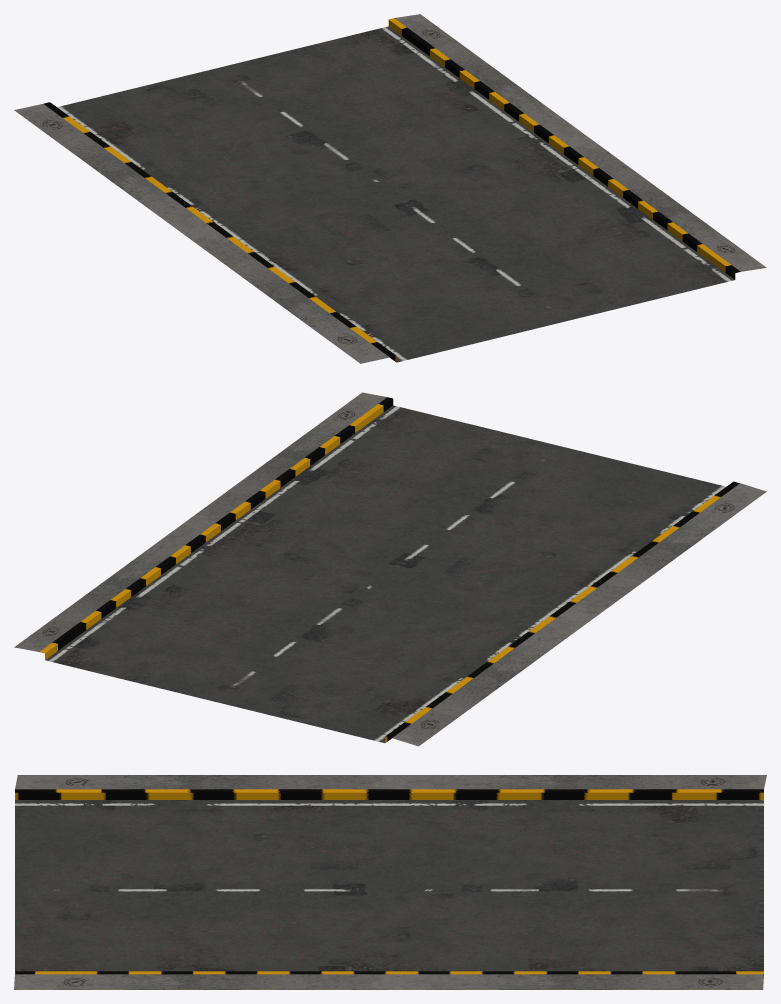
The model's file is studio.obj.
3 renders of one model, top to bottom at view 1: azimuth 30°, elevation 25°; view 2: azimuth 150°, elevation 25°; view 3: azimuth 270°, elevation 25°, orthographic. The views are drawn at different scales.
Visible parts, largest first — view 1: Plane_Material.003_0; view 2: Plane_Material.003_0; view 3: Plane_Material.003_0.
Boxes of the visible parts, <box> form: Plane_Material.003_0: <box>14,14,766,363</box>; Plane_Material.003_0: <box>14,392,766,746</box>; Plane_Material.003_0: <box>14,775,766,989</box>.
Size of the model in its own units: 68.24 by 1.1 by 102.
Materials: 1 (1 with a texture image).
